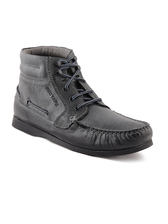shoes: (10, 46, 160, 159)
